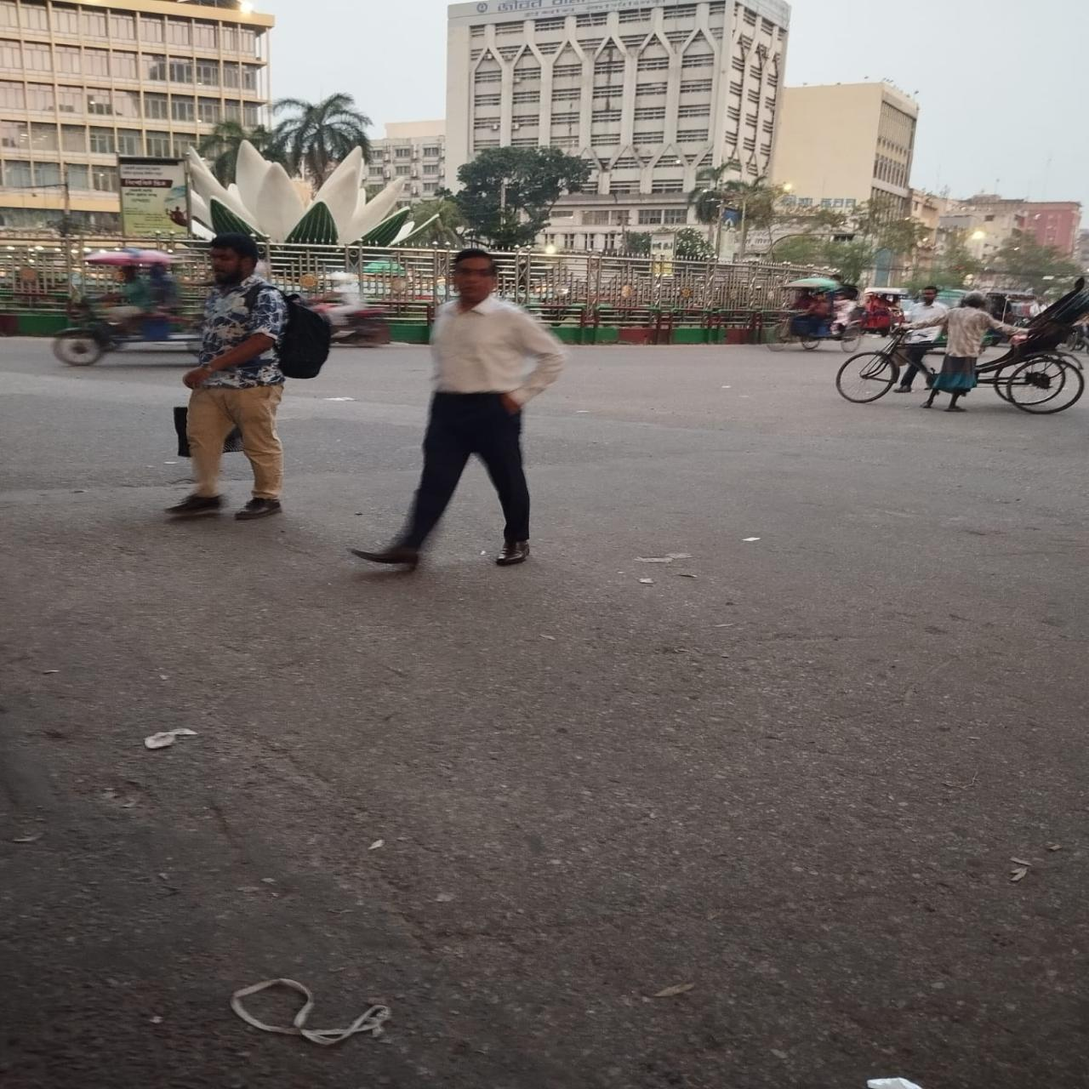person: (358, 246, 541, 577), (174, 230, 283, 533), (945, 287, 976, 414), (905, 277, 932, 393)
